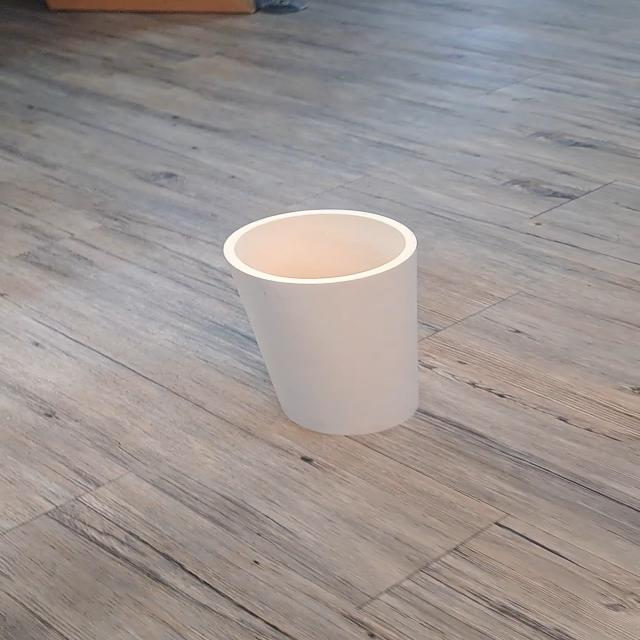CORAL: (181, 197, 492, 448)
